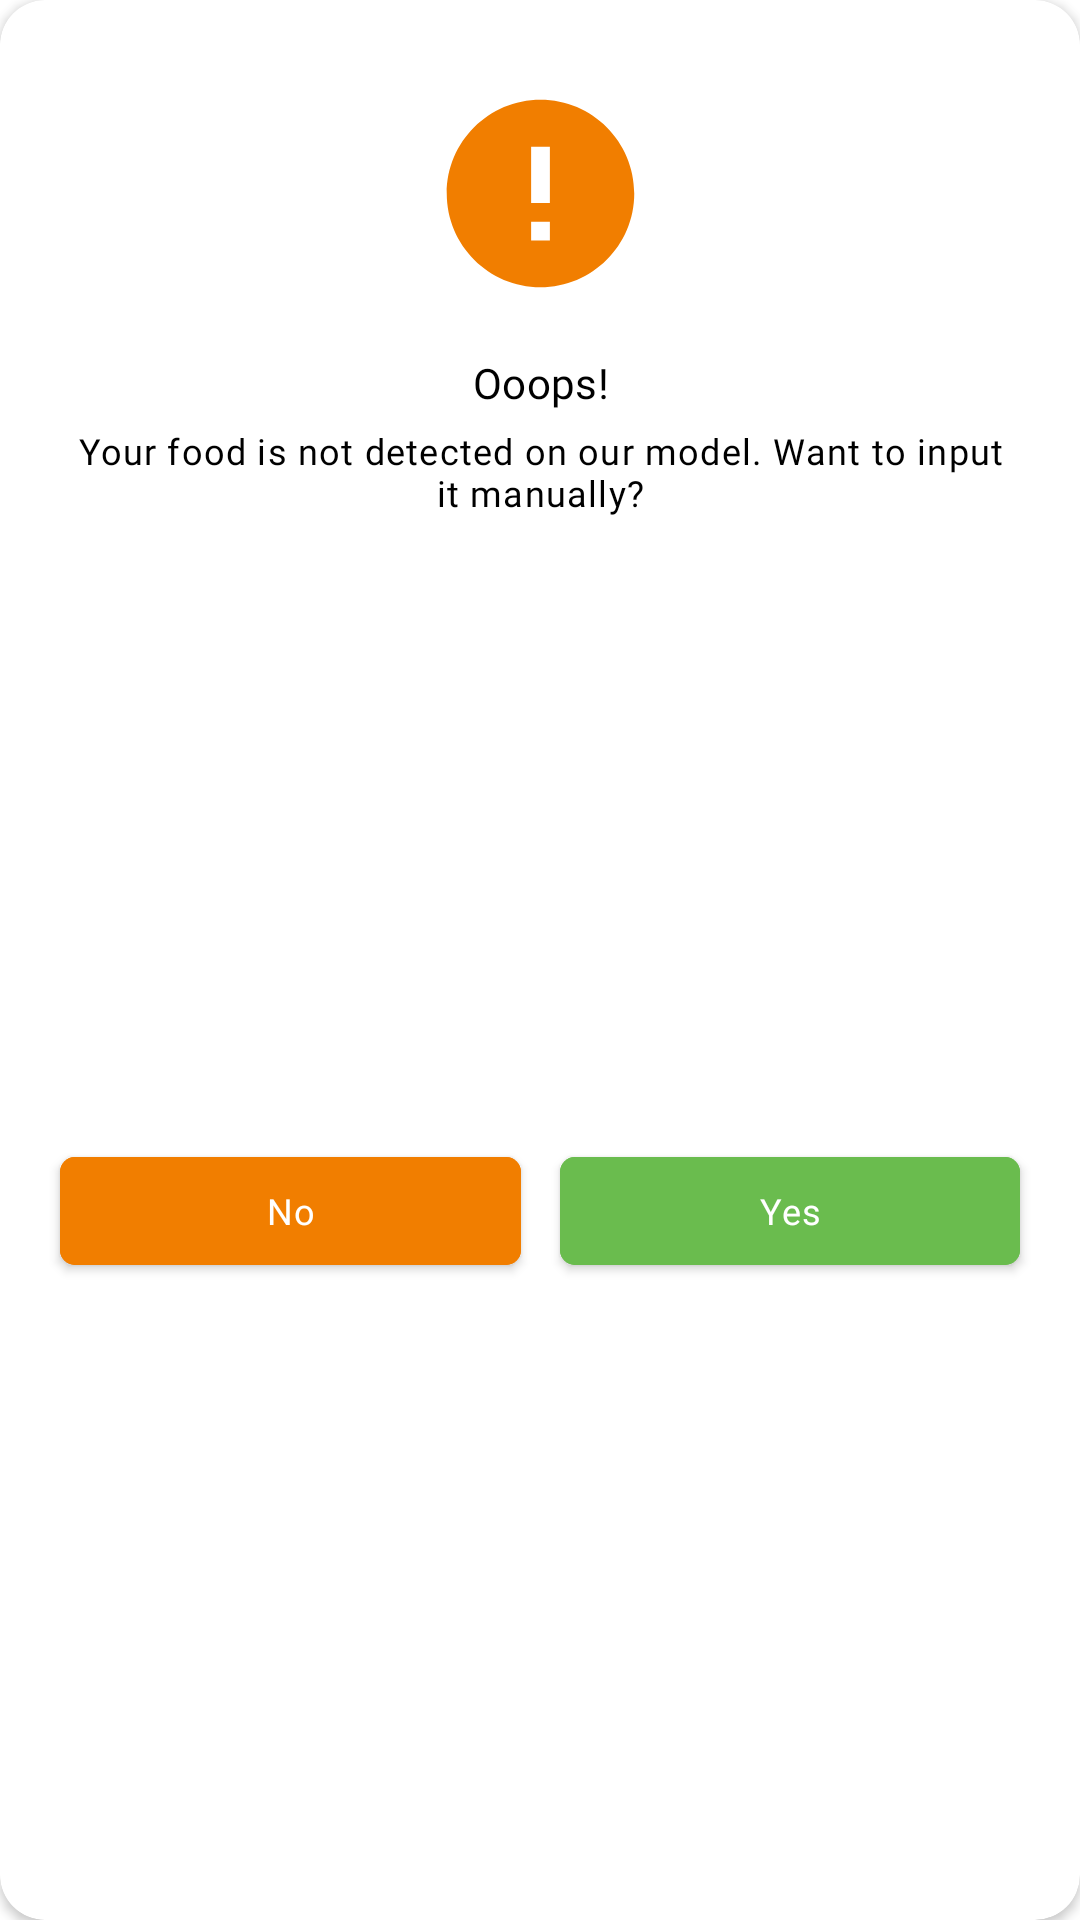

Icon click points for this 1080x1920 phone screenshot, format (x=x, y=y):
alert: (x=540, y=193)
